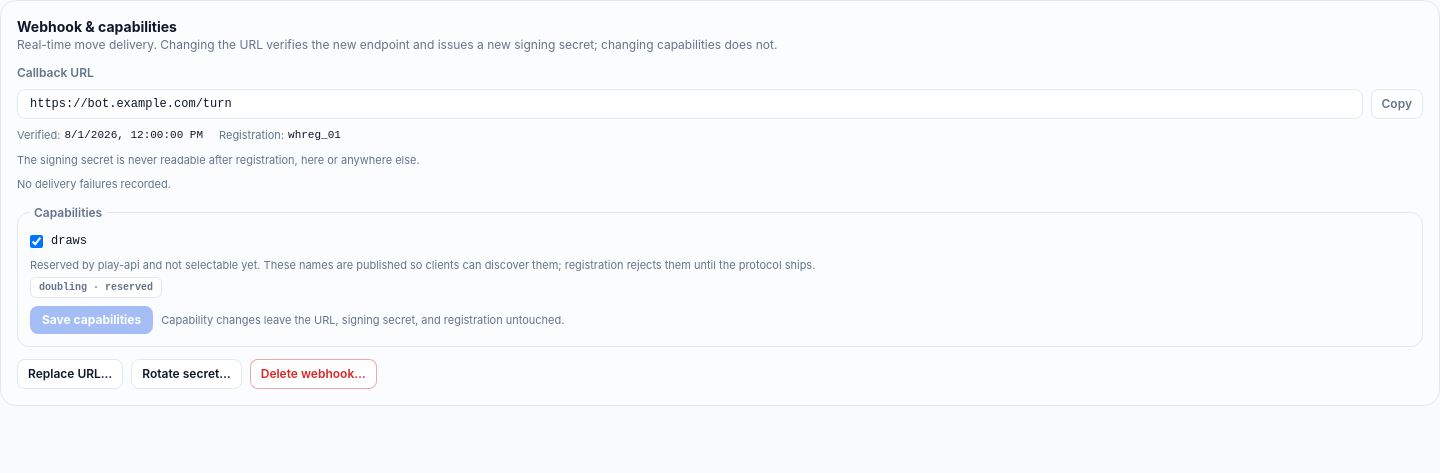
BotWebhookPanel › capabilities › states that a capability save leaves credentials alone, and confirms server state
Click the checkbox labelled "draws". click: [36, 241]
box: [30,234,43,248]
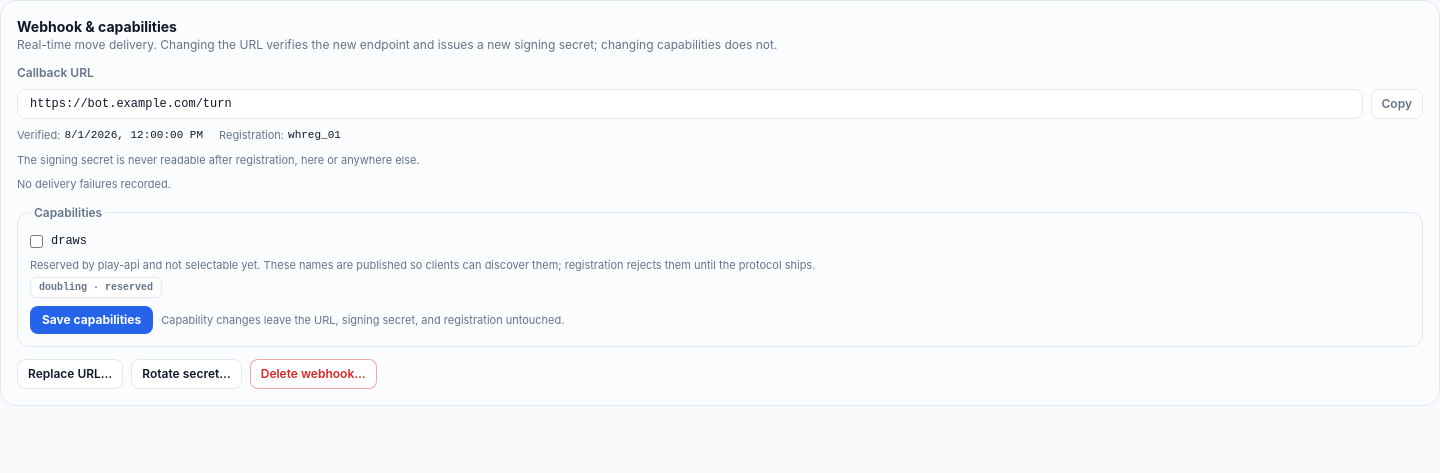
Click the button "Save capabilities". click: [92, 320]
box: [30,306,153,334]
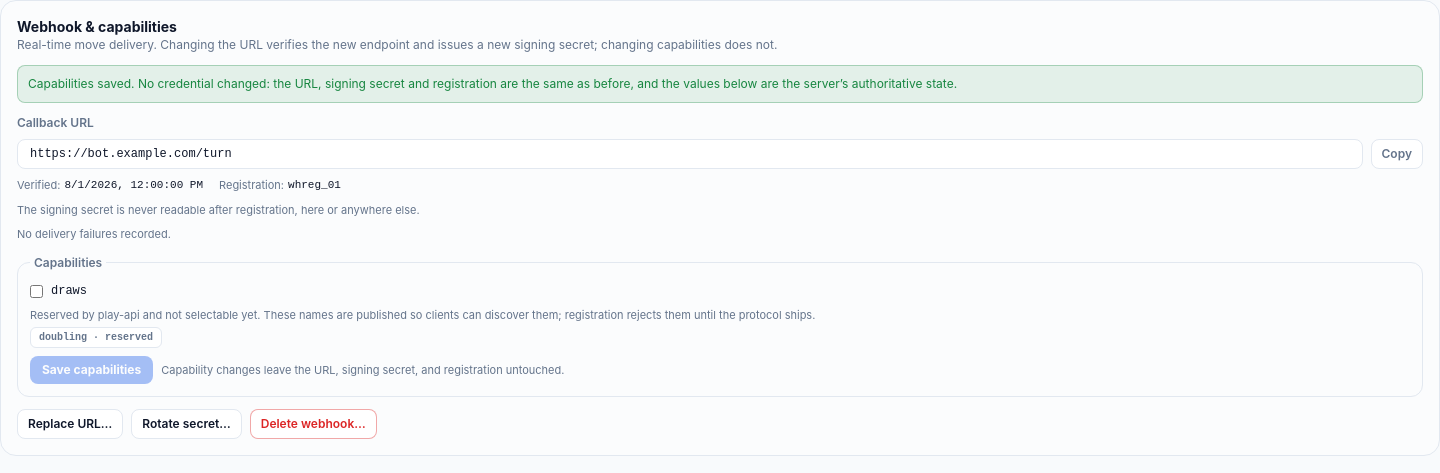
expect the text "No credential changed" is shown: met, box [28,76,957,91]
